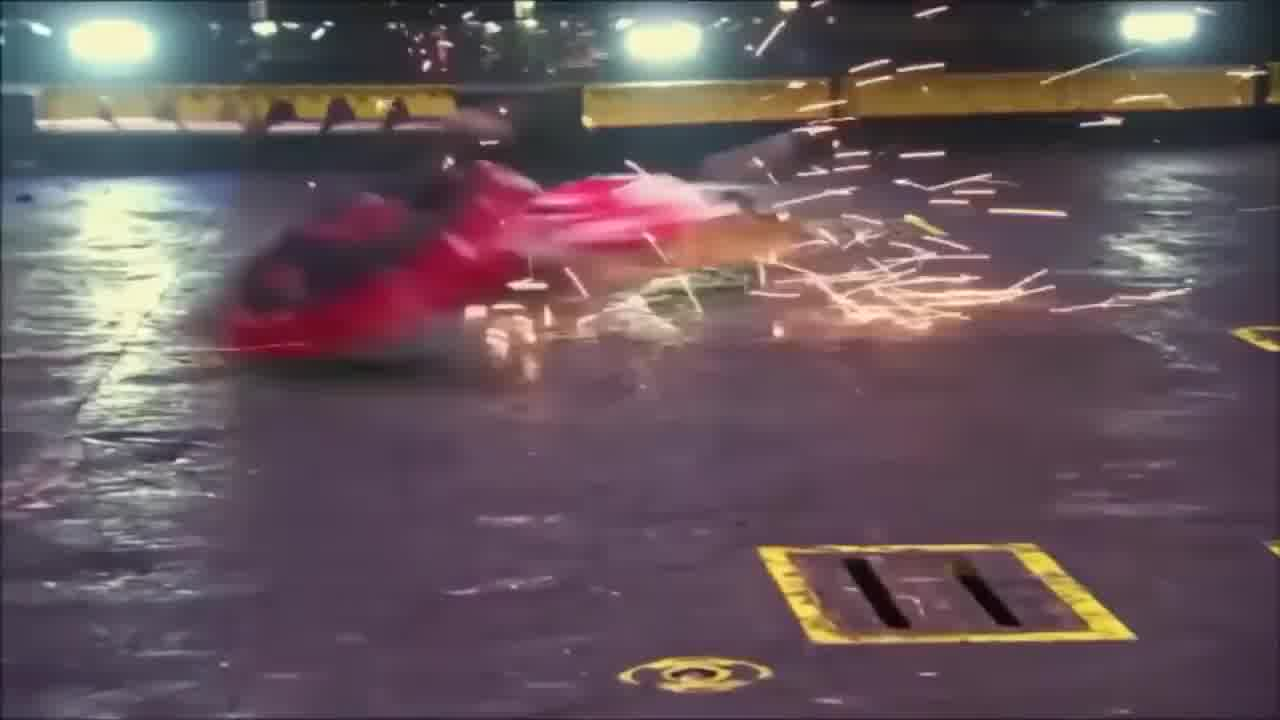combatbot: (206, 145, 572, 387), (502, 129, 845, 269)
